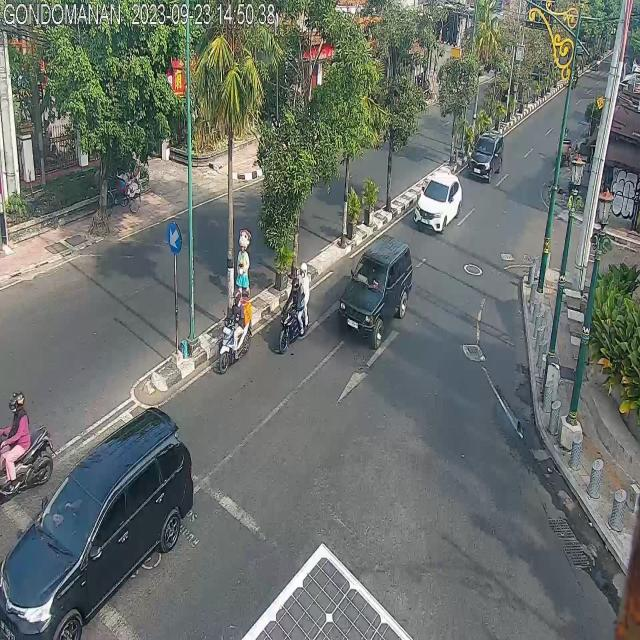car: (0, 400, 192, 640), (342, 236, 411, 350), (414, 170, 464, 231), (469, 129, 502, 186)
motorcycle: (0, 384, 53, 497), (218, 287, 253, 375), (278, 264, 310, 355)
